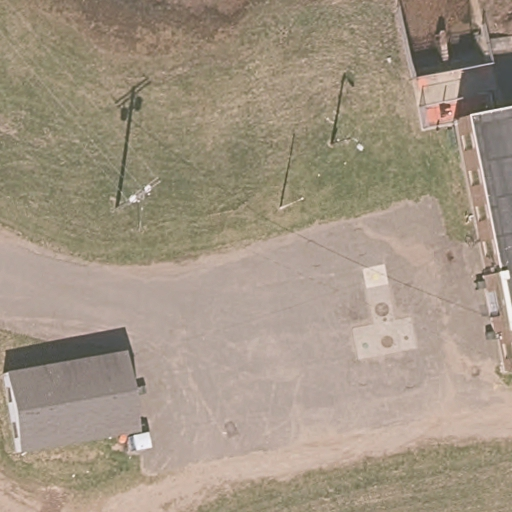DT: (112, 174, 165, 212), (327, 132, 362, 153)
